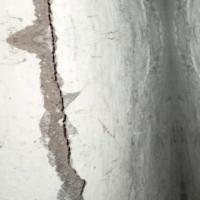crack: (24, 1, 107, 199)
